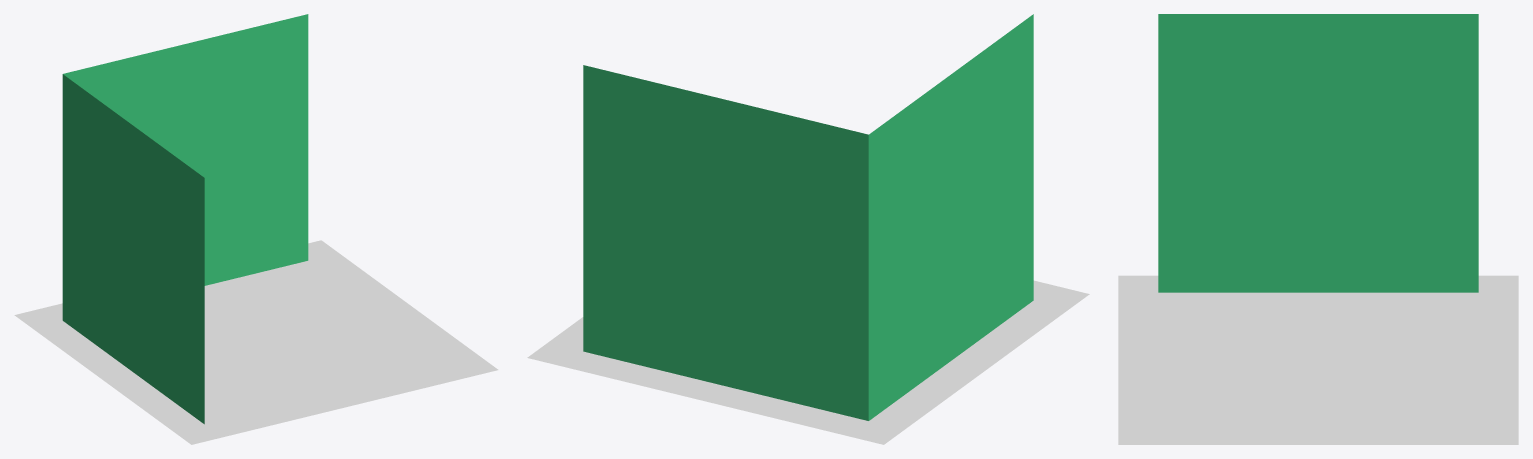
The model's file is room.gltf.
3 renders of one model, left to right at view 1: azimuth 30°, elevation 25°; view 2: azimuth 150°, elevation 25°; view 3: azimuth 270°, elevation 25°, orthographic. The views are drawn at different scales.
Visible parts, largest first — view 1: Cube, Plane; view 2: Cube, Plane; view 3: Cube, Plane.
Boxes of the visible parts, bbox=[...] form: Cube: bbox=[62, 14, 308, 424]; Plane: bbox=[14, 240, 498, 444]; Cube: bbox=[583, 14, 1033, 420]; Plane: bbox=[527, 280, 1089, 444]; Cube: bbox=[1158, 14, 1478, 292]; Plane: bbox=[1118, 275, 1518, 444].
Size of the model in its own units: 10 by 8 by 10.
